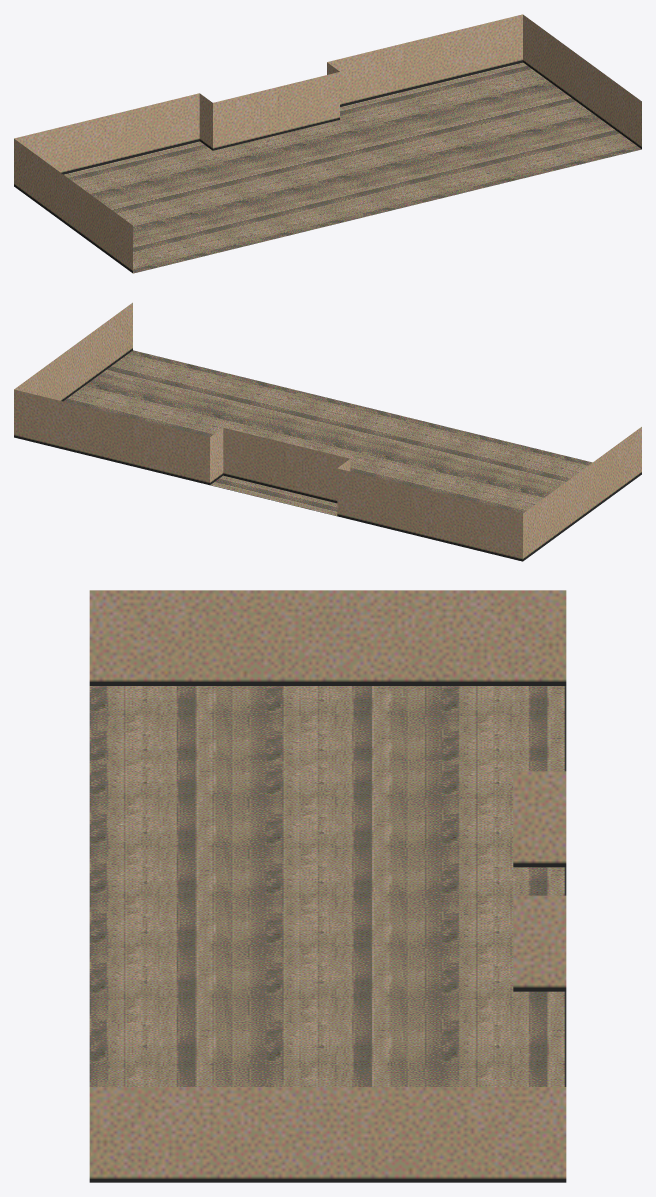
File: LobbyRoom.glb
3 renders of one model, top to bottom at view 1: azimuth 30°, elevation 25°; view 2: azimuth 150°, elevation 25°; view 3: azimuth 270°, elevation 25°, orthographic. The views are drawn at different scales.
Visible parts, largest first — view 1: Cube; view 2: Cube; view 3: Cube.
Part boxes in pixels (x1=…): Cube: x1=14, y1=14, x2=641, y2=273; Cube: x1=14, y1=302, x2=641, y2=561; Cube: x1=89, y1=590, x2=566, y2=1182.
Size of the model in its own units: 22.2 by 2 by 9.
Materials: 1 (1 with a texture image).
